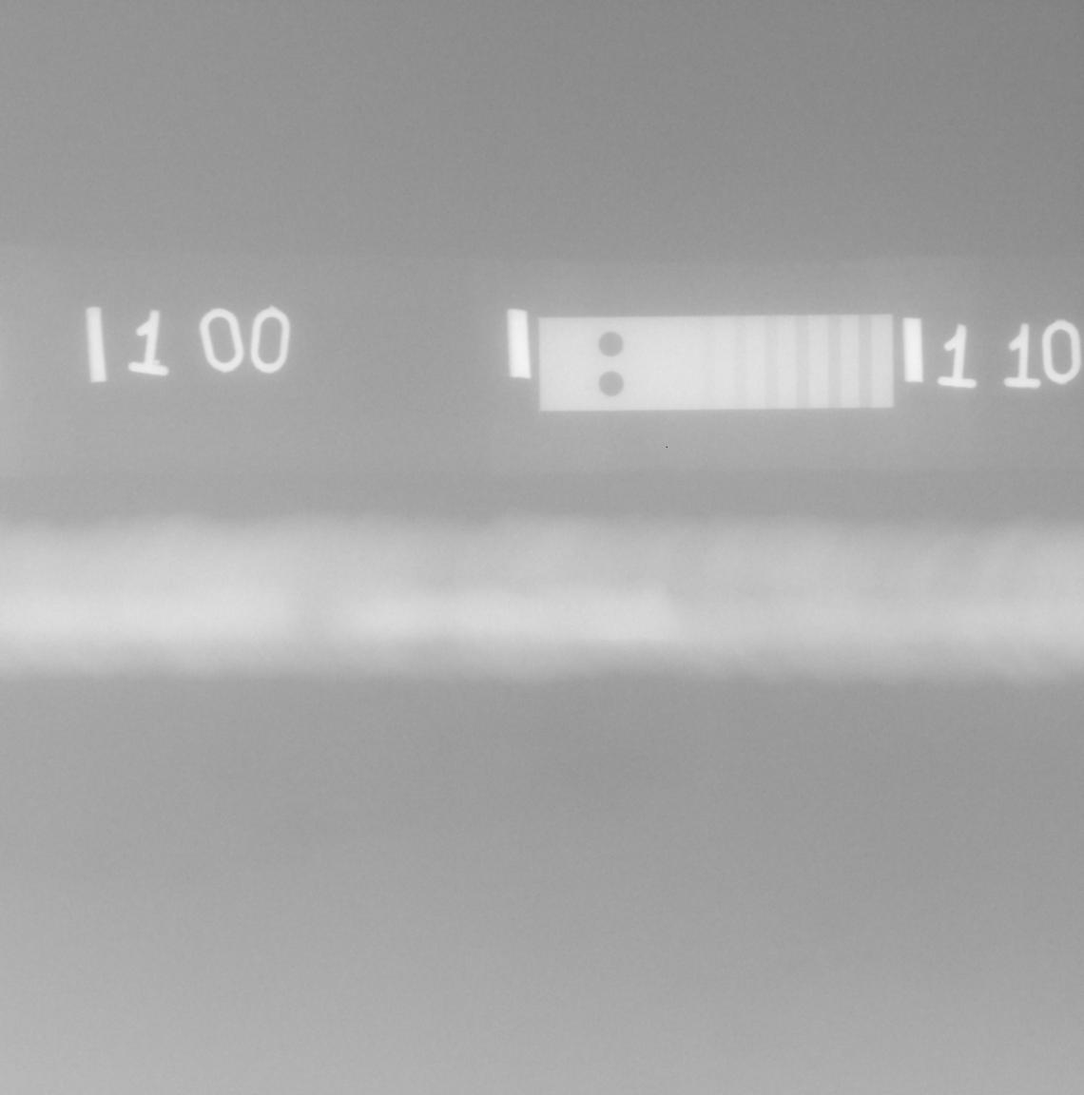Reference Standard 2: (539, 313, 893, 412)
